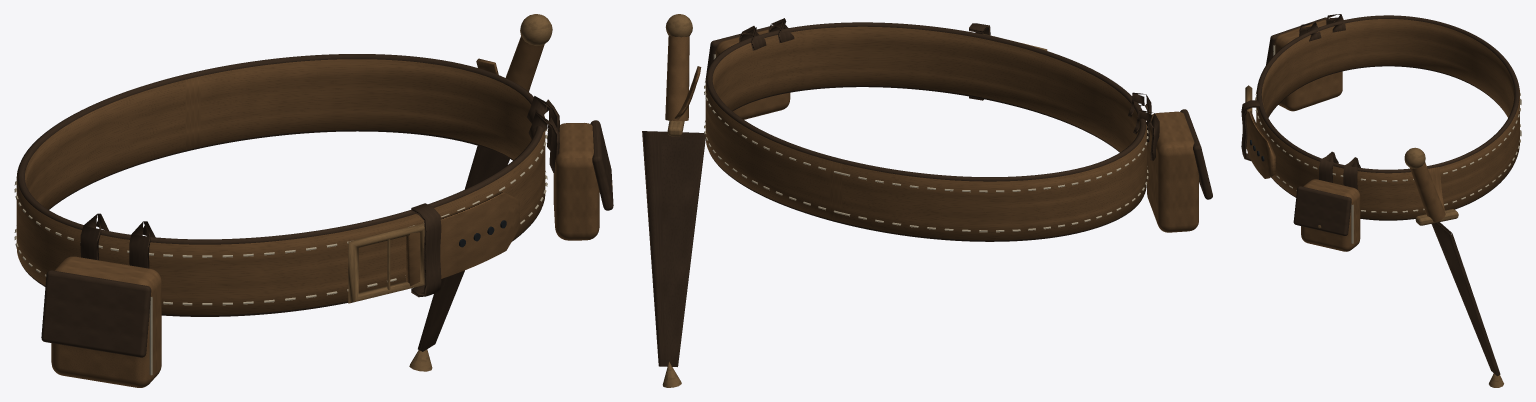
The picture shows the model from 3 angles, left to right: view 1: azimuth 30°, elevation 25°; view 2: azimuth 150°, elevation 25°; view 3: azimuth 270°, elevation 25°; orthographic projection. The views are drawn at different scales.
Parts seen in each view (by area): view 1: tanned leather, oiled strap leather, aged alloy edge, waxed linen thread; view 2: tanned leather, oiled strap leather, waxed linen thread, aged alloy edge; view 3: tanned leather, oiled strap leather, aged alloy edge, waxed linen thread.
Boxes of the visible parts, bbox=[...] form: tanned leather: bbox=[16, 36, 599, 387]; oiled strap leather: bbox=[17, 54, 613, 357]; aged alloy edge: bbox=[348, 14, 612, 371]; waxed linen thread: bbox=[14, 129, 547, 375]; tanned leather: bbox=[665, 26, 1198, 240]; oiled strap leather: bbox=[642, 18, 1212, 366]; waxed linen thread: bbox=[704, 54, 1148, 232]; aged alloy edge: bbox=[662, 14, 1047, 387]; tanned leather: bbox=[1246, 19, 1519, 251]; oiled strap leather: bbox=[1241, 14, 1519, 376]; aged alloy edge: bbox=[1245, 85, 1503, 387]; waxed linen thread: bbox=[1255, 45, 1521, 243].
Bounding box in the file's own units: 0.4567 × 0.2863 × 0.2869.
Materials: 5 (4 with a texture image).
